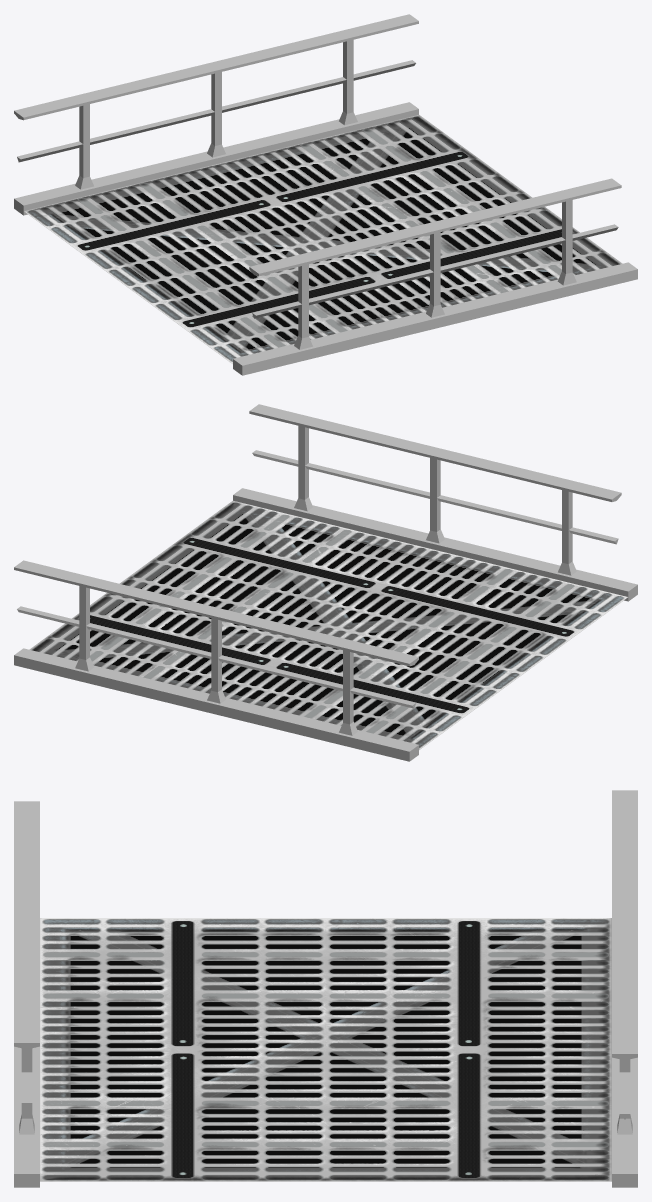
File: PlateForm_Line_03.FBX
3 renders of one model, top to bottom at view 1: azimuth 30°, elevation 25°; view 2: azimuth 150°, elevation 25°; view 3: azimuth 270°, elevation 25°, orthographic. The views are drawn at different scales.
Visible parts, largest first — view 1: PlateForm_Line_03; view 2: PlateForm_Line_03; view 3: PlateForm_Line_03.
Part boxes in pixels (x1=…): PlateForm_Line_03: x1=14, y1=14, x2=637, y2=375; PlateForm_Line_03: x1=14, y1=404, x2=637, y2=761; PlateForm_Line_03: x1=14, y1=790, x2=637, y2=1187.
Size of the model in its own units: 6 by 1.42 by 6.
